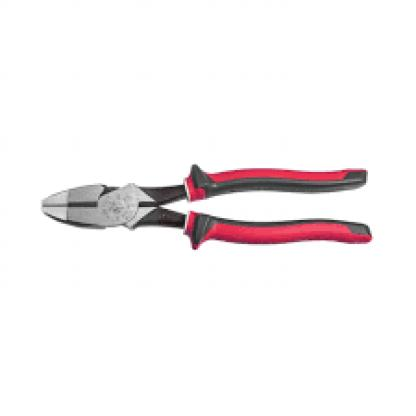Pliers: (29, 148, 384, 258)
